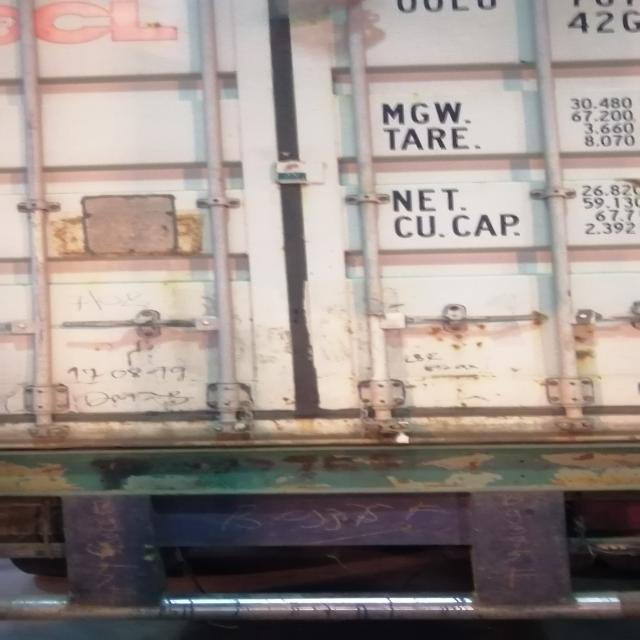seal: (389, 420, 416, 444)
